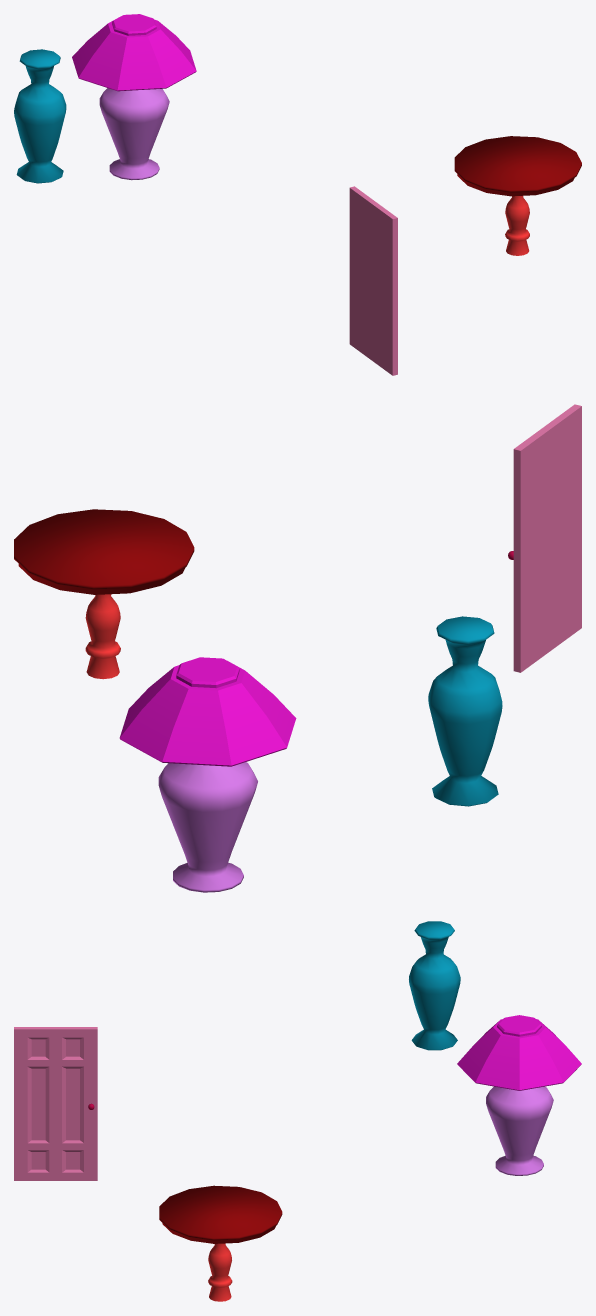
Rendered from HiddenMemoriesProps4.fbx.
3 renders of one model, top to bottom at view 1: azimuth 30°, elevation 25°; view 2: azimuth 150°, elevation 25°; view 3: azimuth 270°, elevation 25°, orthographic. The views are drawn at different scales.
Parts seen in each view (by area): view 1: Door, Lamp Shade, Table Top, Vase, Lamp, Table Bottom; view 2: Door, Lamp Shade, Table Top, Vase, Lamp, Table Bottom; view 3: Door, Lamp Shade, Table Top, Vase, Lamp, Table Bottom.
Boxes of the visible parts, x1,y1,x2,y2 form: Door: (349, 186, 397, 375); Lamp Shade: (72, 14, 196, 91); Table Top: (454, 136, 581, 196); Vase: (14, 49, 66, 183); Lamp: (99, 88, 169, 180); Table Bottom: (505, 196, 529, 255); Door: (513, 404, 581, 672); Lamp Shade: (119, 657, 296, 766); Table Top: (14, 509, 194, 594); Vase: (428, 616, 502, 806); Lamp: (158, 762, 257, 892); Table Bottom: (85, 594, 120, 679); Door: (14, 1027, 97, 1180); Lamp Shade: (457, 1015, 581, 1090); Table Top: (159, 1185, 282, 1243); Vase: (409, 921, 460, 1050); Lamp: (486, 1086, 553, 1175); Table Bottom: (208, 1243, 232, 1301).
Bounding box in the file's own units: 593 × 257 × 679.
